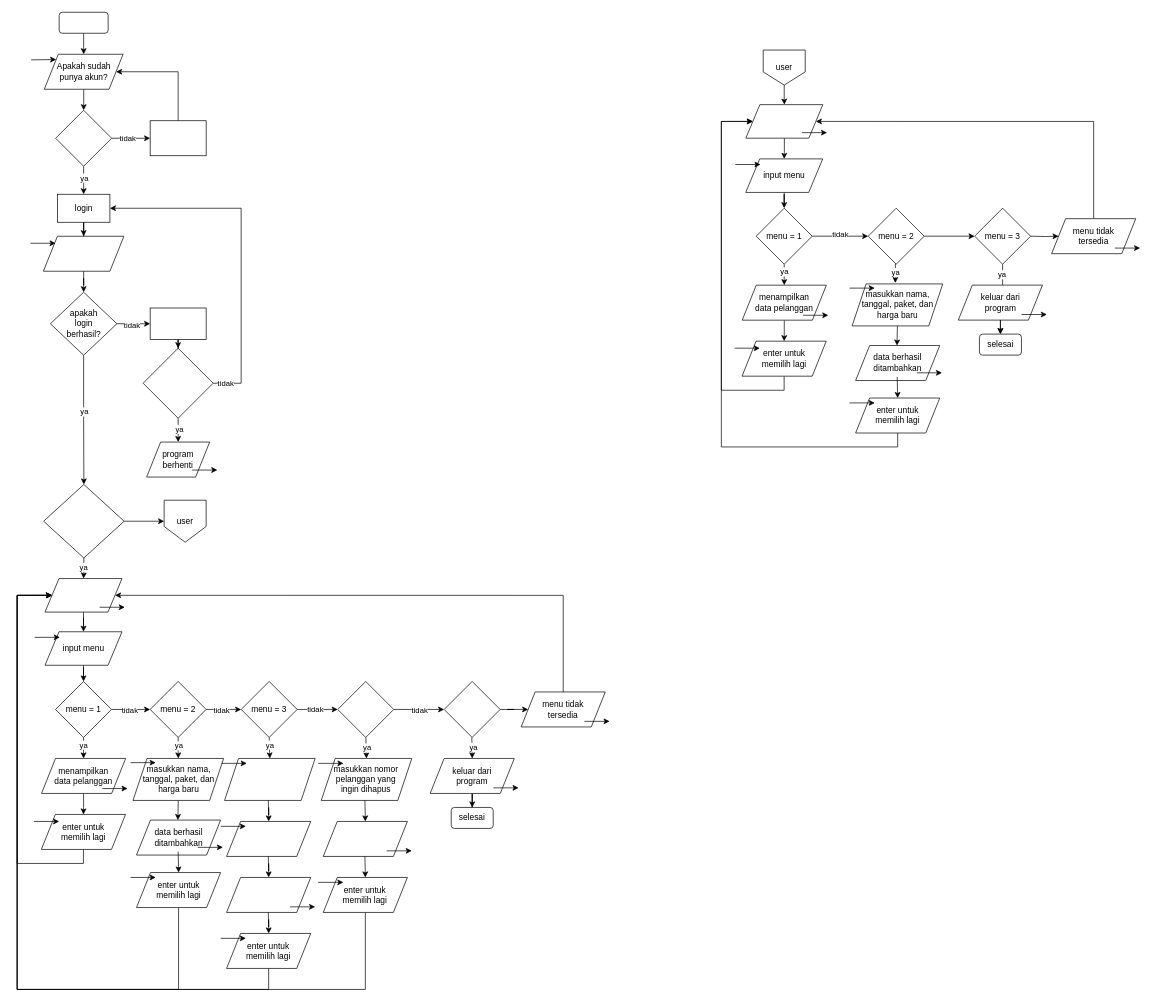
Some shapes in this 1159 by 1007 pixel diagram are drawn without their labels. The shapes that lost their labels are listed below. From the top down, each one's centre as x and y in pixels, then its label:
At point 83,22: "mulai".
At point 83,138: "sudah punya".
At point 177,138: "buat akun baru".
At point 784,121: "menampilkan menu user".
At point 83,253: "masukkan username dan password".
At point 177,323: "kesempatan berkurang 1".
At point 177,383: "kesempatan = 0".
At point 83,521: "login sebagai admin?".
At point 83,595: "menampilkan menu admin".
At point 365,709: "menu = 4".
At point 471,709: "menu = 5".
At point 269,779: "masukkan nomor pelanggan yang ingin diubah".
At point 268,838: "masukkan perubahan data".
At point 365,838: "data berhasil dihapus".
At point 268,894: "data berhasil diubah".
